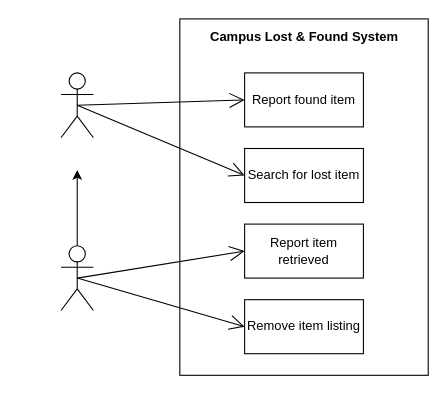
This 447x394 diagram has some shape labels left out. Each missing label, with the centre of its shape:
Community Member: the point at 76,105
Staff Member: the point at 76,277
